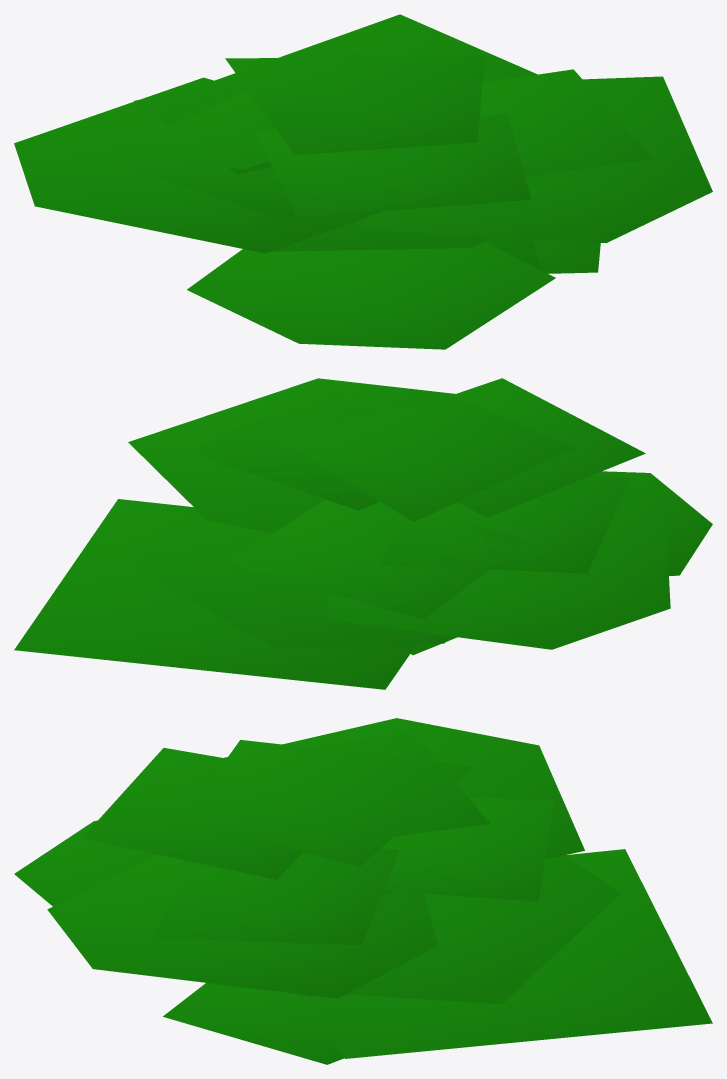
The model's file is FungiPolyp_1.fbx.
3 views of the same model, one above another, from view 1: azimuth 30°, elevation 25°; view 2: azimuth 150°, elevation 25°; view 3: azimuth 270°, elevation 25° (orthographic). The views are drawn at different scales.
Visible parts, largest first — view 1: FungiPolyp_1; view 2: FungiPolyp_1; view 3: FungiPolyp_1.
Boxes of the visible parts, left/top/right/bottom form: FungiPolyp_1: left=14, top=14, right=712, bottom=349; FungiPolyp_1: left=14, top=378, right=712, bottom=689; FungiPolyp_1: left=14, top=718, right=712, bottom=1064.
Size of the model in its own units: 81.34 by 22.36 by 82.91.
